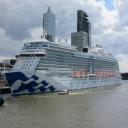cruises: (2, 32, 124, 99)
